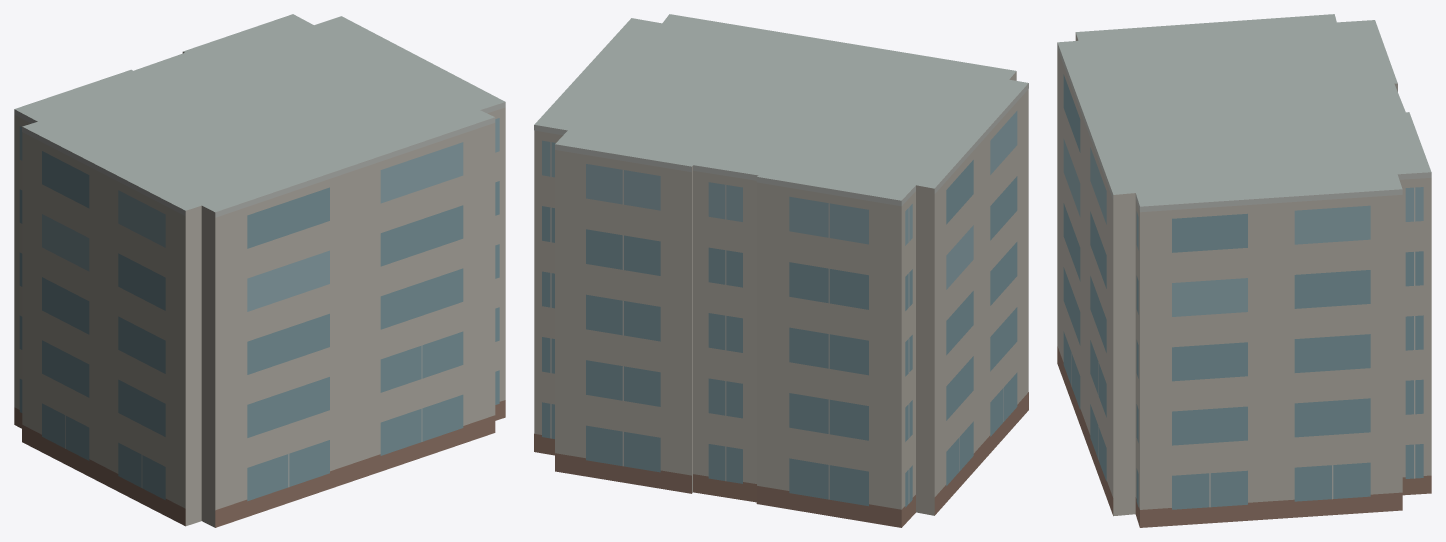
The model's file is survey-upis-32746590.glb.
3 views of the same model, side by side, from view 1: azimuth 30°, elevation 25°; view 2: azimuth 150°, elevation 25°; view 3: azimuth 270°, elevation 25° (orthographic). The views are drawn at different scales.
Visible parts, largest first — view 1: survey-upis-32746590.tmp; view 2: survey-upis-32746590.tmp; view 3: survey-upis-32746590.tmp.
Part boxes in pixels (x1,y1,x2,y2): survey-upis-32746590.tmp: (14,14,505,527); survey-upis-32746590.tmp: (534,14,1028,527); survey-upis-32746590.tmp: (1057,14,1431,527).
Size of the model in its own units: 18.15 by 14.1 by 14.9.
